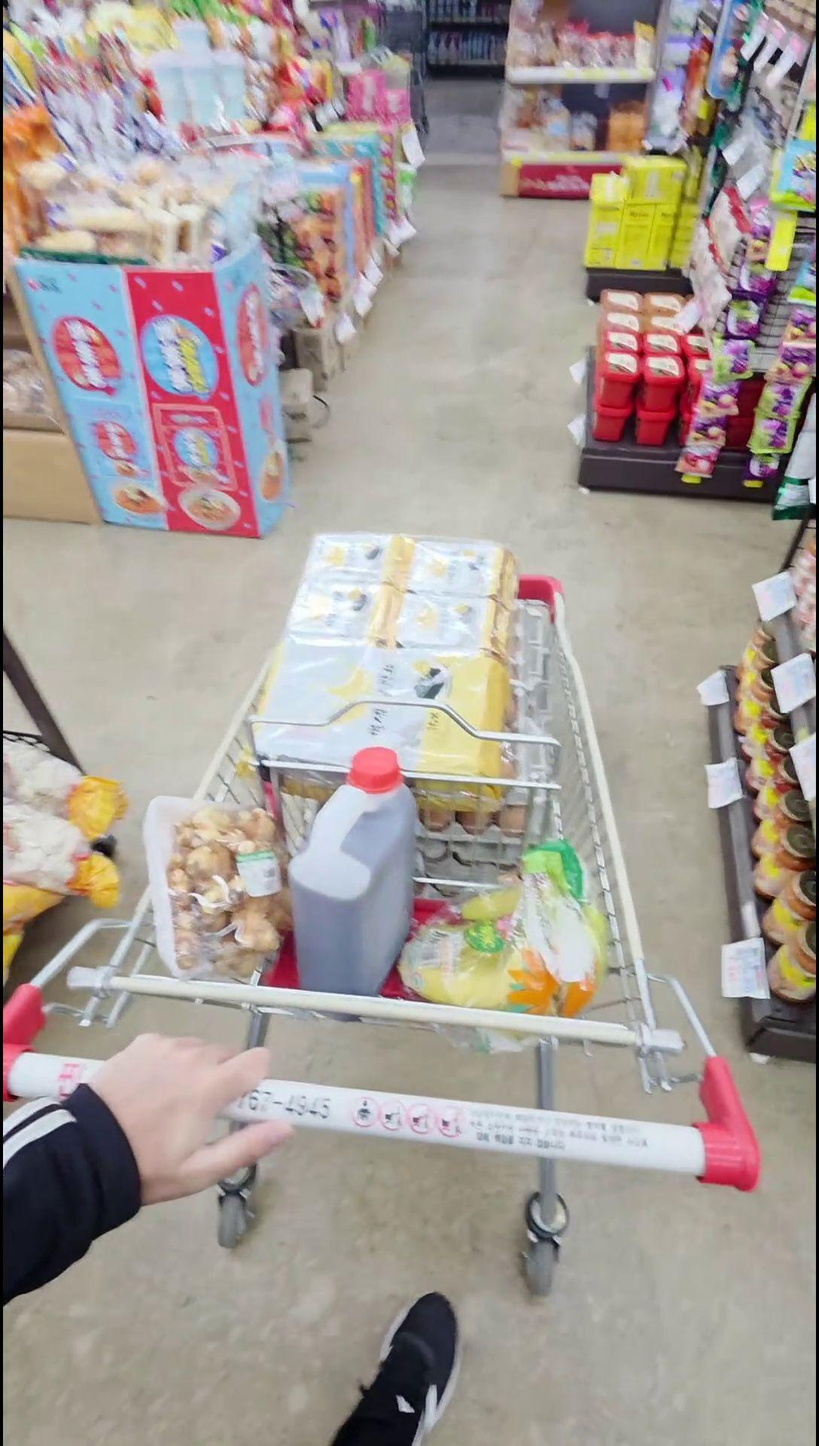fully_cart: (0, 532, 770, 1295)
